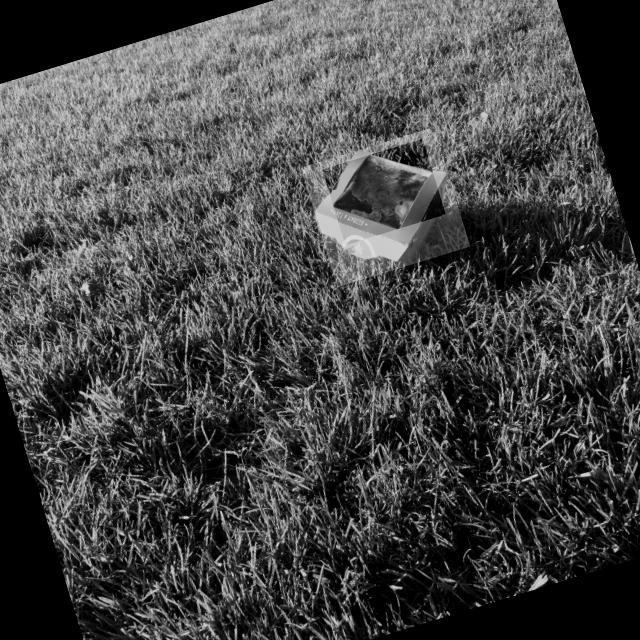Food Carton: (314, 150, 447, 266)
Plastic film: (333, 154, 432, 229)
